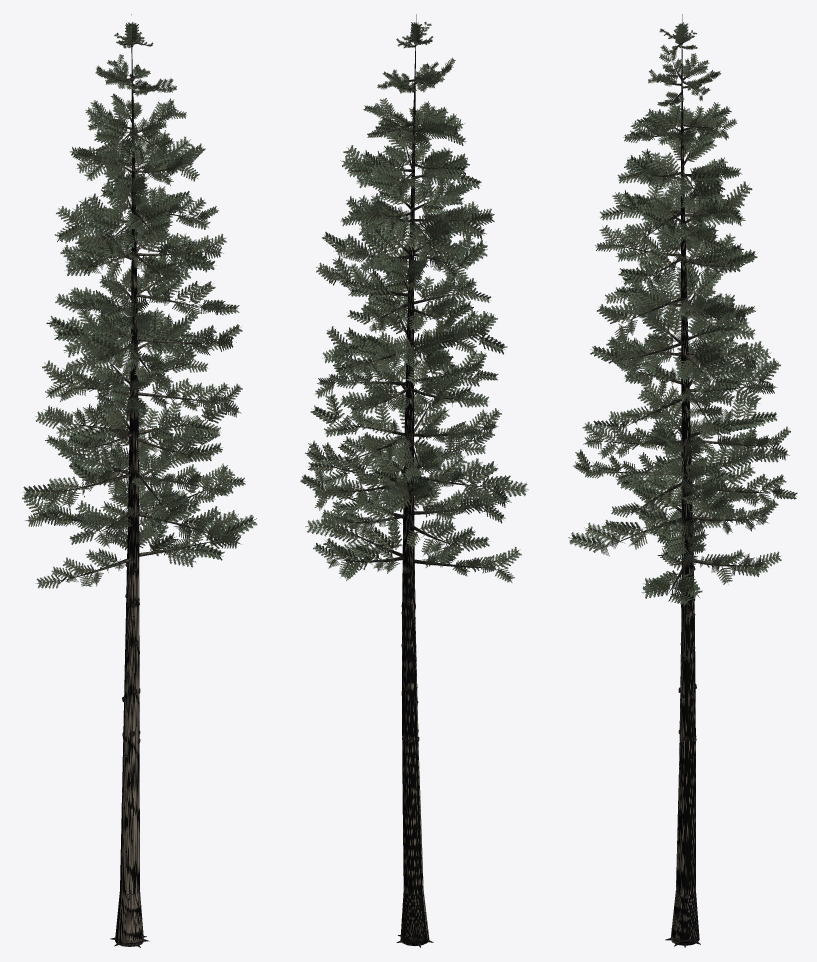
File: Sitka_Mature_03_HighPruned_Healed_LOD0.fbx
3 views of the same model, side by side, from view 1: azimuth 30°, elevation 25°; view 2: azimuth 150°, elevation 25°; view 3: azimuth 270°, elevation 25° (orthographic).
Visible parts, largest first — view 1: Sitka_Mature_03_HighPruned_Healed_LOD0; view 2: Sitka_Mature_03_HighPruned_Healed_LOD0; view 3: Sitka_Mature_03_HighPruned_Healed_LOD0.
Boxes of the visible parts, box(x1,y1,x2,y2) form: Sitka_Mature_03_HighPruned_Healed_LOD0: box(22, 14, 257, 947); Sitka_Mature_03_HighPruned_Healed_LOD0: box(300, 14, 528, 947); Sitka_Mature_03_HighPruned_Healed_LOD0: box(568, 14, 797, 947).
Size of the model in its own units: 607 by 2400 by 565.
3 materials, 3 textured.
